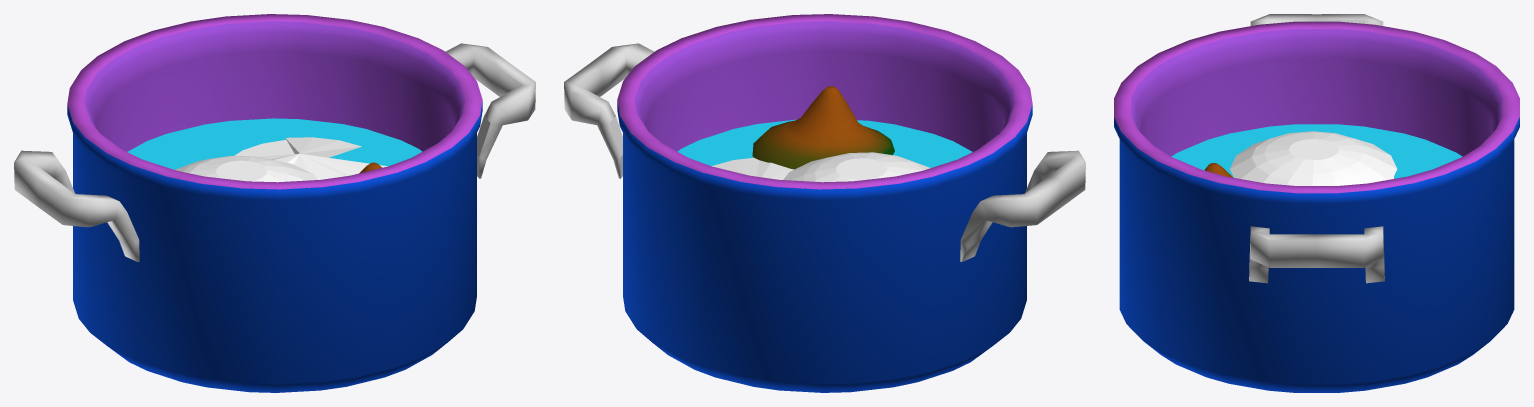
The model's file is UncookedGravyPot.fbx.
3 views of the same model, side by side, from view 1: azimuth 30°, elevation 25°; view 2: azimuth 150°, elevation 25°; view 3: azimuth 270°, elevation 25° (orthographic).
Parts seen in each view (by area): view 1: Cylinder, Cylinder.003, Broth, Milk, Flour; view 2: Cylinder, Cylinder.003, Onion, Broth, Flour, Milk; view 3: Cylinder, Flour, Cylinder.003, Broth.
Boxes of the visible parts, bbox=[...] form: Cylinder: bbox=[67, 14, 482, 392]; Cylinder.003: bbox=[14, 43, 535, 261]; Broth: bbox=[127, 118, 422, 169]; Milk: bbox=[234, 137, 387, 179]; Flour: bbox=[175, 155, 317, 182]; Cylinder: bbox=[617, 14, 1032, 392]; Cylinder.003: bbox=[564, 43, 1085, 261]; Onion: bbox=[752, 86, 894, 169]; Broth: bbox=[677, 119, 972, 167]; Flour: bbox=[783, 152, 930, 182]; Milk: bbox=[711, 157, 793, 179]; Cylinder: bbox=[1114, 21, 1519, 392]; Flour: bbox=[1230, 131, 1397, 185]; Cylinder.003: bbox=[1249, 14, 1384, 283]; Broth: bbox=[1171, 124, 1462, 178].
Bounding box in the file's own units: 83.38 × 36.06 × 62.94.
